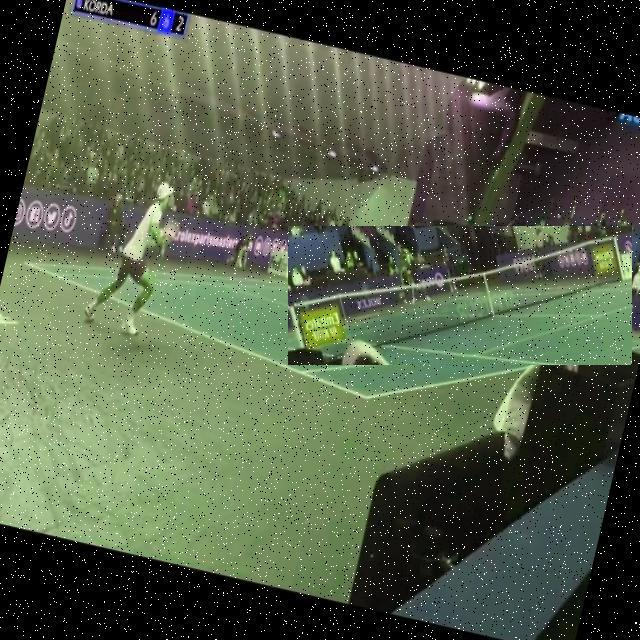court: (10, 196, 640, 457)
net: (288, 226, 632, 365)
player: (80, 169, 188, 342)
